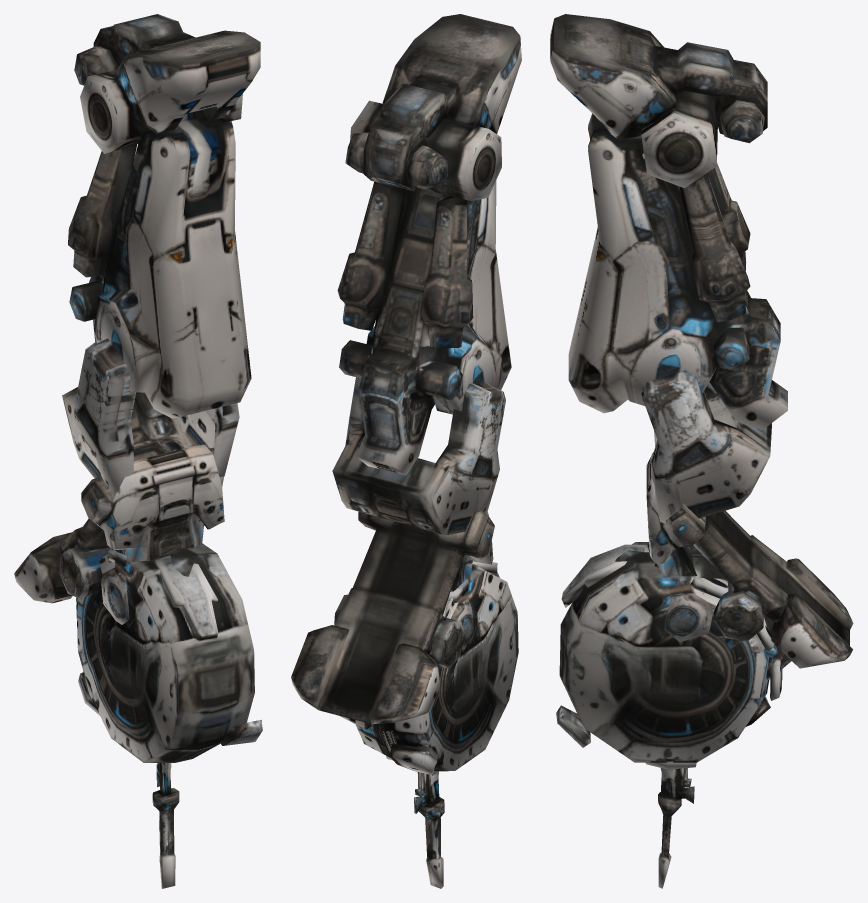
File: cyberWheels.glb
3 views of the same model, side by side, from view 1: azimuth 30°, elevation 25°; view 2: azimuth 150°, elevation 25°; view 3: azimuth 270°, elevation 25° (orthographic). The views are drawn at different scales.
Visible parts, largest first — view 1: 0.002, 2.002, 1.002, 3.002; view 2: 0.002, 1.002, 2.002, 3.002; view 3: 0.002, 2.002, 1.002, 3.002.
Part boxes in pixels (x1=…): 0.002: x1=68, y1=14, x2=260, y2=418; 2.002: x1=76, y1=543, x2=262, y2=762; 1.002: x1=14, y1=338, x2=239, y2=624; 3.002: x1=152, y1=763, x2=179, y2=888; 0.002: x1=337, y1=14, x2=521, y2=475; 1.002: x1=291, y1=377, x2=505, y2=723; 2.002: x1=340, y1=561, x2=518, y2=774; 3.002: x1=414, y1=771, x2=444, y2=888; 0.002: x1=550, y1=14, x2=787, y2=430; 2.002: x1=556, y1=542, x2=782, y2=769; 1.002: x1=641, y1=370, x2=853, y2=679; 3.002: x1=658, y1=768, x2=694, y2=888.
Size of the model in its own units: 0.4841 by 2.9 by 0.9293.
1 material, 1 textured.
